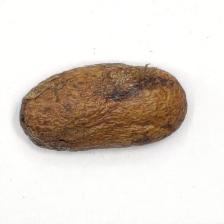NG: (20, 63, 187, 152)
